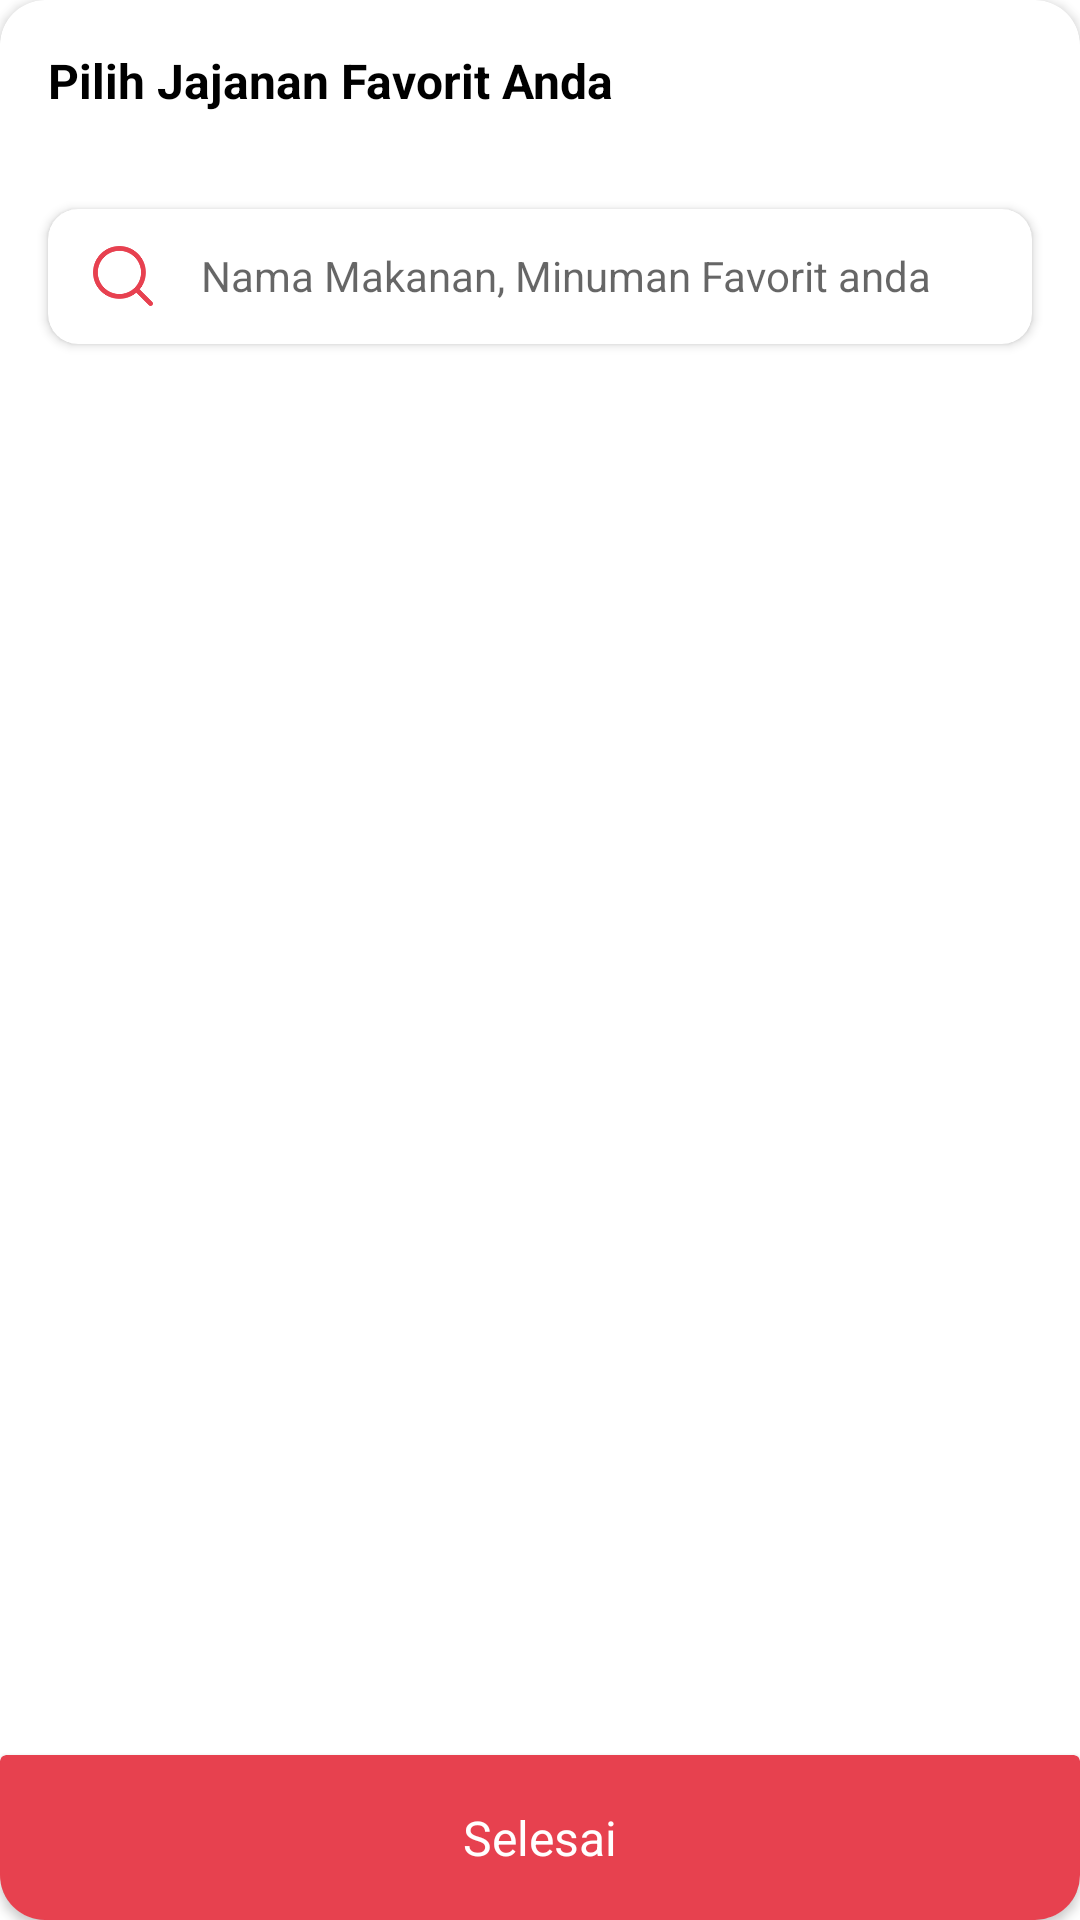

Where to tap for icons on this 1080×1920 app screen, as (x=x, y=y):
Icon Search: (x=123, y=276)
